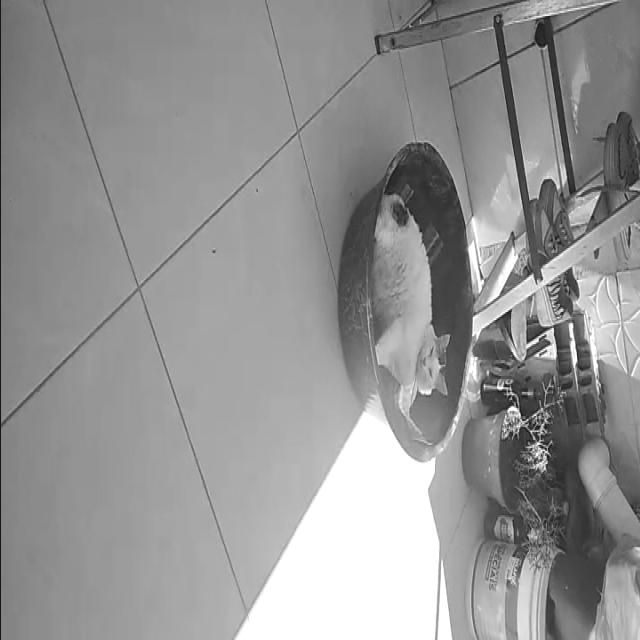Simba: (368, 190, 452, 440)
